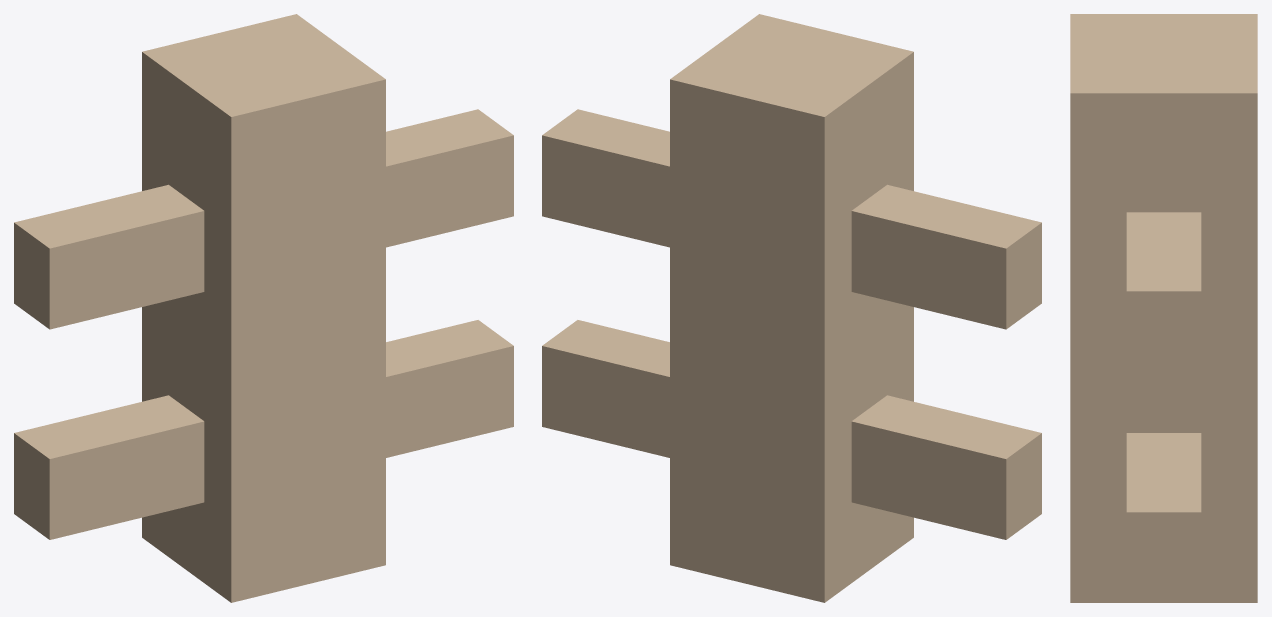
The model's file is FenceMiddleMesh.gltf.
3 views of the same model, side by side, from view 1: azimuth 30°, elevation 25°; view 2: azimuth 150°, elevation 25°; view 3: azimuth 270°, elevation 25° (orthographic). The views are drawn at different scales.
Visible parts, largest first — view 1: FenceMiddle; view 2: FenceMiddle; view 3: FenceMiddle.
Part boxes in pixels (bbox=[...]): FenceMiddle: bbox=[14, 14, 513, 602]; FenceMiddle: bbox=[542, 14, 1041, 602]; FenceMiddle: bbox=[1070, 14, 1257, 602].
Bounding box in the file's own units: 3 × 3 × 1.
